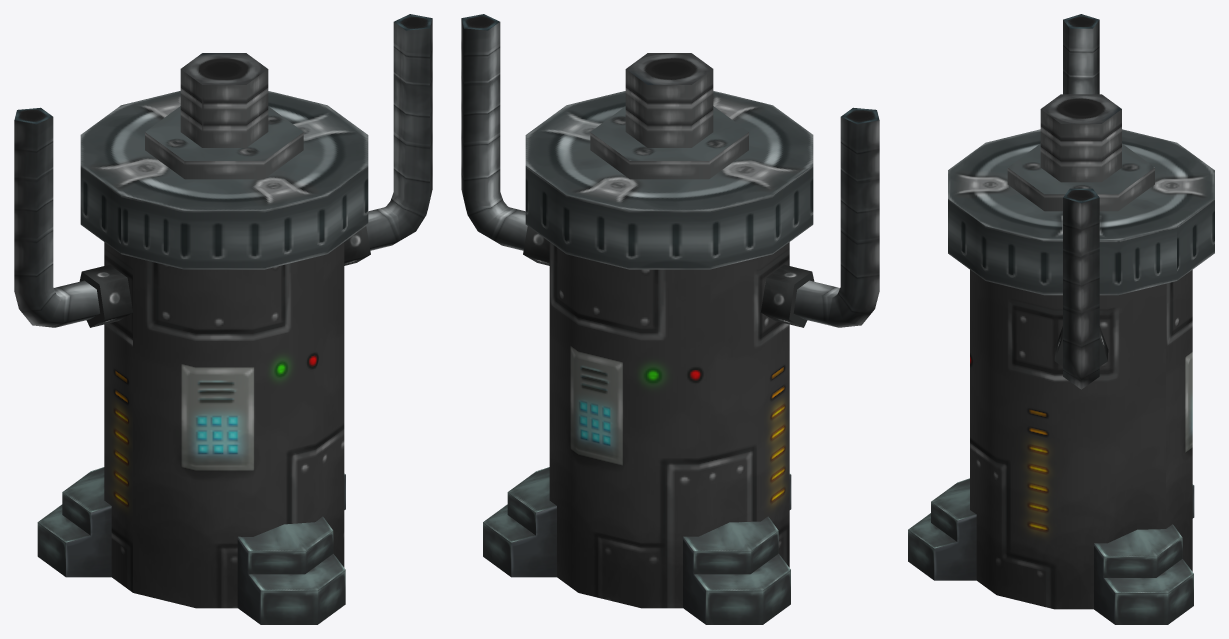
File: Generator_02.fbx
The picture shows the model from 3 angles, left to right: view 1: azimuth 30°, elevation 25°; view 2: azimuth 150°, elevation 25°; view 3: azimuth 270°, elevation 25°; orthographic projection. The views are drawn at different scales.
Parts seen in each view (by area): view 1: Generator_02; view 2: Generator_02; view 3: Generator_02.
Part boxes in pixels (x1,y1,x2,y2): Generator_02: (14, 14, 432, 624); Generator_02: (461, 14, 879, 624); Generator_02: (908, 14, 1214, 624).
Size of the model in its own units: 1.79 by 2 by 1.23.
